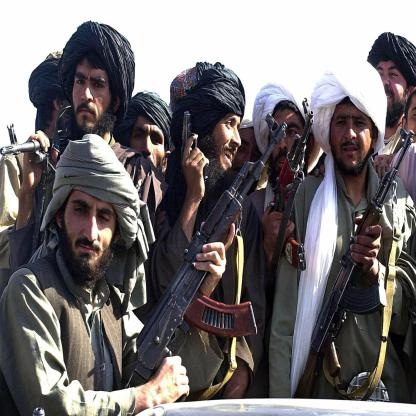rifle: (125, 111, 294, 390), (294, 125, 416, 401), (0, 123, 70, 178)
